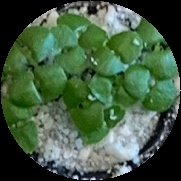Basil: (4, 28, 52, 78), (124, 65, 173, 111), (0, 98, 37, 153), (141, 20, 176, 78), (64, 81, 103, 132), (56, 13, 109, 49), (13, 67, 62, 105), (93, 33, 134, 76), (48, 29, 85, 74)
